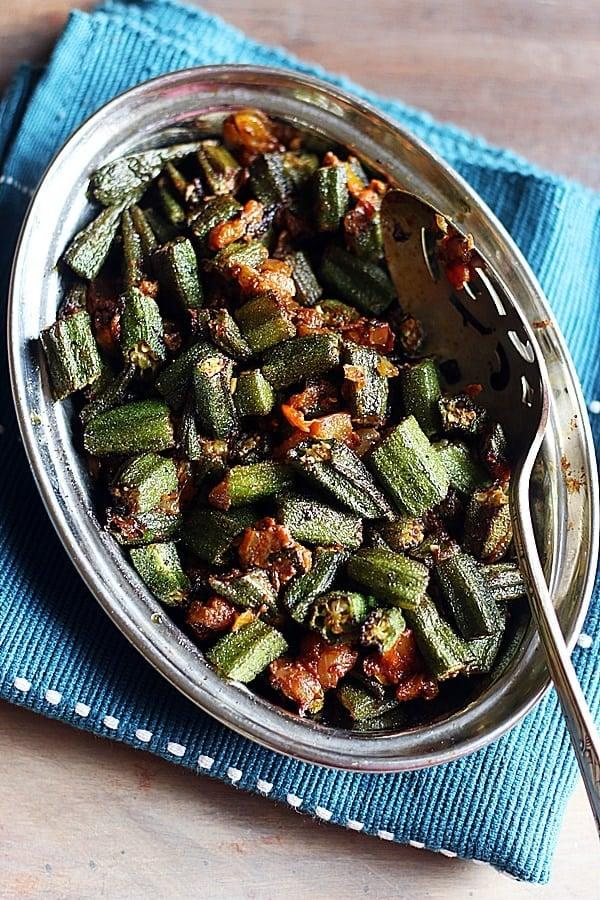bhindi: (61, 96, 529, 714)
